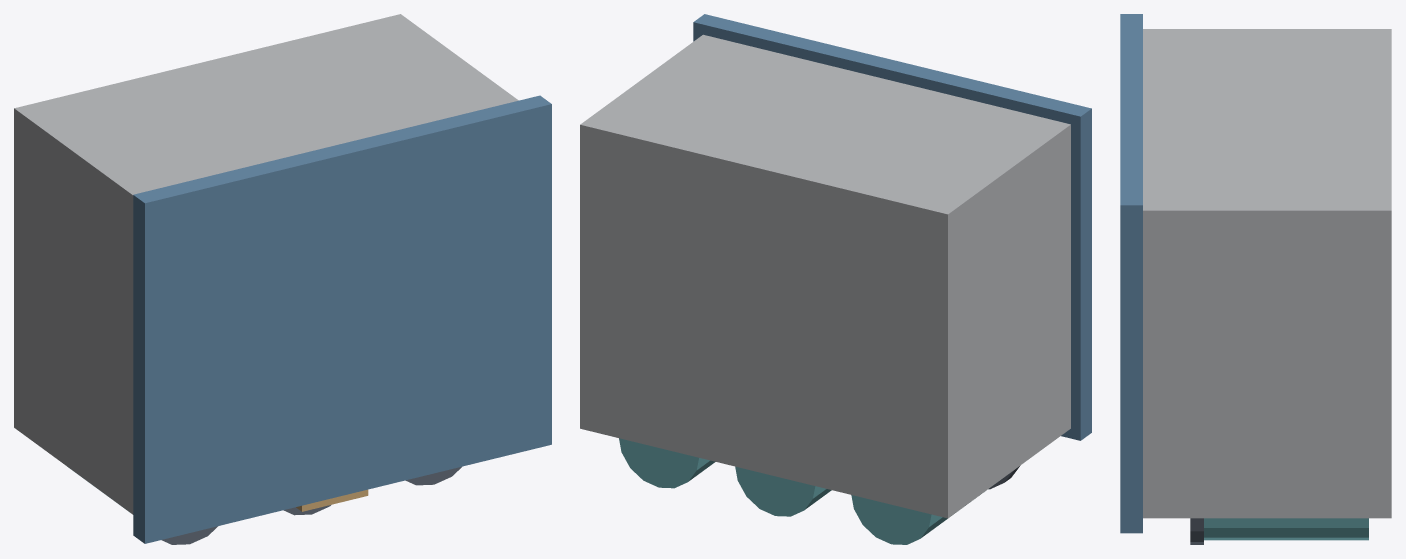
Rendered from life_support_station.glb.
3 renders of one model, left to right at view 1: azimuth 30°, elevation 25°; view 2: azimuth 150°, elevation 25°; view 3: azimuth 270°, elevation 25°, orthographic. The views are drawn at different scales.
Parts seen in each view (by area): view 1: life_support_station_1, life_support_station_0; view 2: life_support_station_0, life_support_station_1, life_support_station_2, life_support_station_4, life_support_station_6; view 3: life_support_station_0, life_support_station_1, life_support_station_6, life_support_station_7.
Boxes of the visible parts, bbox=[...] form: life_support_station_1: bbox=[133, 95, 551, 543]; life_support_station_0: bbox=[14, 14, 518, 514]; life_support_station_0: bbox=[580, 34, 1070, 518]; life_support_station_1: bbox=[693, 14, 1091, 440]; life_support_station_2: bbox=[851, 484, 994, 544]; life_support_station_4: bbox=[735, 466, 831, 516]; life_support_station_6: bbox=[619, 438, 715, 488]; life_support_station_0: bbox=[1143, 29, 1391, 518]; life_support_station_1: bbox=[1120, 14, 1142, 533]; life_support_station_6: bbox=[1204, 518, 1368, 540]; life_support_station_7: bbox=[1190, 518, 1203, 544].
Bounding box in the file's own units: 4 × 3.64 × 2.4.
